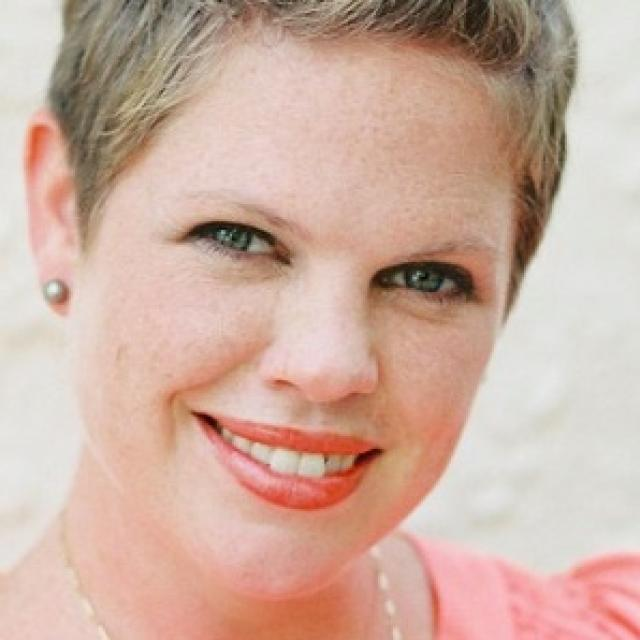Normal: (75, 38, 516, 606)
